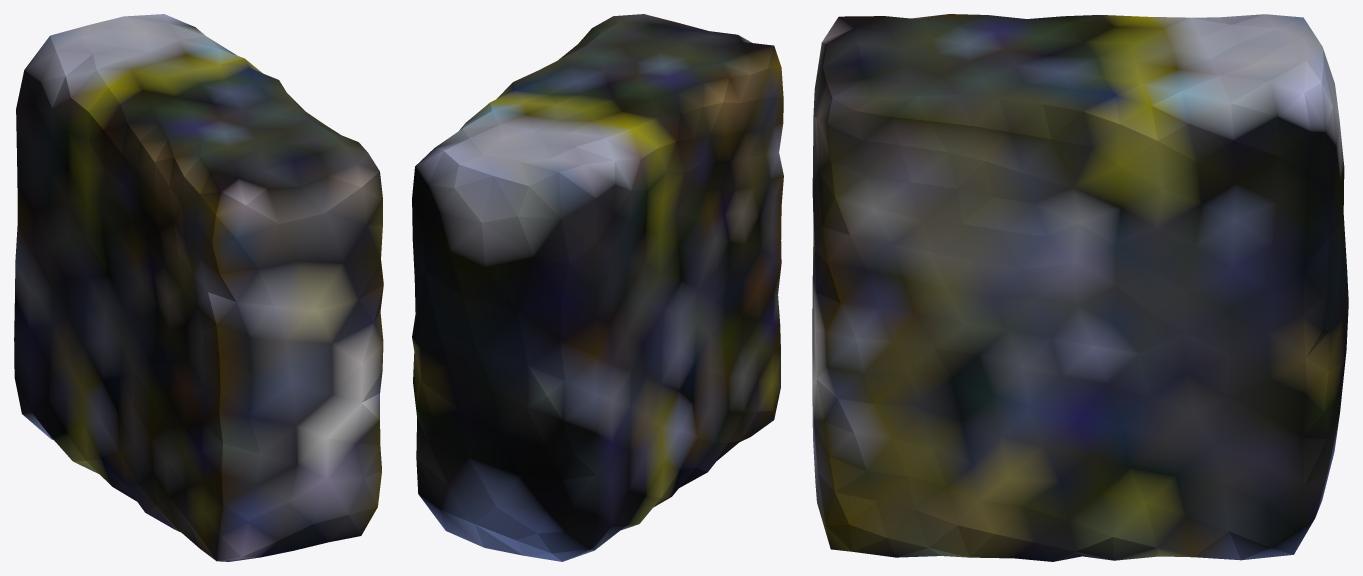
Rendered from warrior-box1.dae.
The picture shows the model from 3 angles, left to right: view 1: azimuth 30°, elevation 25°; view 2: azimuth 150°, elevation 25°; view 3: azimuth 270°, elevation 25°; orthographic projection. The views are drawn at different scales.
Parts seen in each view (by area): view 1: node; view 2: node; view 3: node.
Boxes of the visible parts, bbox=[...] form: node: bbox=[14, 14, 383, 561]; node: bbox=[412, 14, 783, 561]; node: bbox=[812, 14, 1348, 561].
Size of the model in its own units: 0.2715 by 0.5665 by 0.5759.
